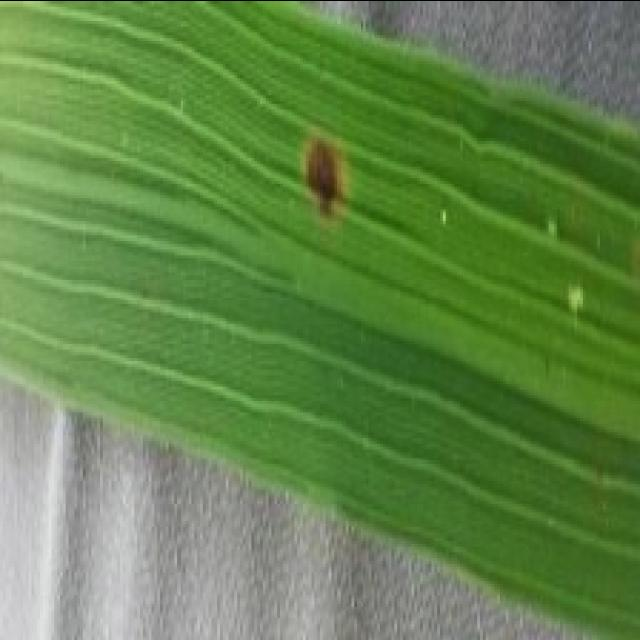Unhealthy: (299, 133, 345, 220), (566, 282, 586, 313), (546, 213, 558, 239), (440, 210, 447, 222)
